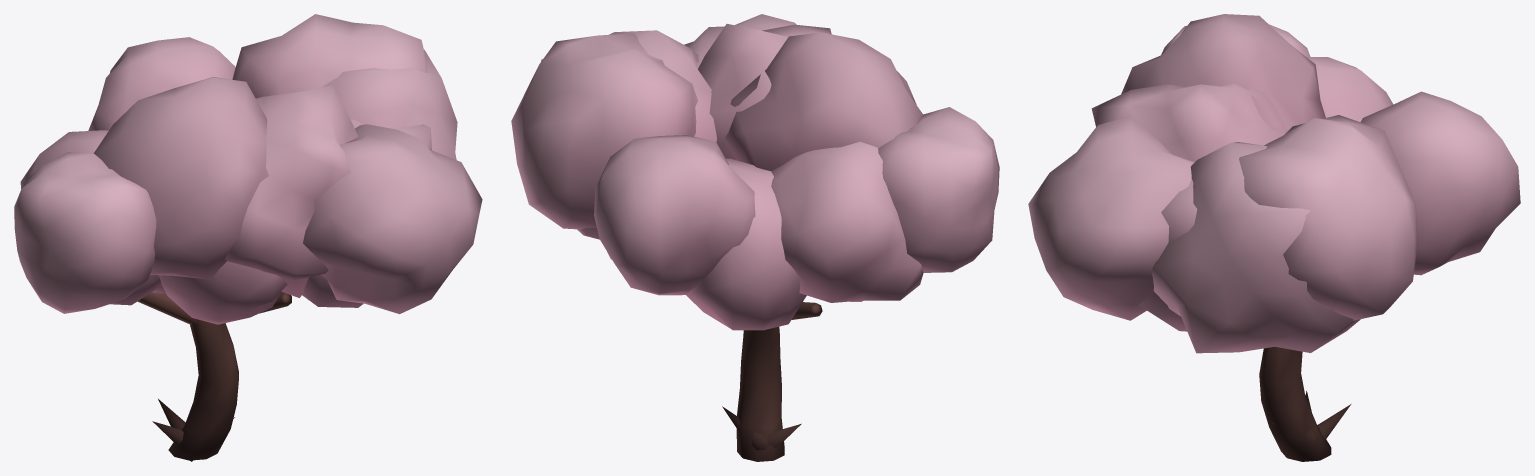
Rendered from cc_arvore_cerejeira.glb.
3 views of the same model, side by side, from view 1: azimuth 30°, elevation 25°; view 2: azimuth 150°, elevation 25°; view 3: azimuth 270°, elevation 25° (orthographic). The views are drawn at different scales.
Visible parts, largest first — view 1: cc_arvore_cerejeira_leaf_copa, cc_arvore_cerejeira_tree_casca; view 2: cc_arvore_cerejeira_leaf_copa, cc_arvore_cerejeira_tree_casca; view 3: cc_arvore_cerejeira_leaf_copa, cc_arvore_cerejeira_tree_casca.
Boxes of the visible parts, x1,y1,x2,y2 form: cc_arvore_cerejeira_leaf_copa: (14, 14, 482, 324); cc_arvore_cerejeira_tree_casca: (137, 292, 291, 461); cc_arvore_cerejeira_leaf_copa: (511, 14, 999, 330); cc_arvore_cerejeira_tree_casca: (722, 302, 822, 461); cc_arvore_cerejeira_leaf_copa: (1028, 14, 1520, 353); cc_arvore_cerejeira_tree_casca: (1259, 346, 1351, 461).
Bounding box in the file's own units: 6.91 × 6.15 × 6.44.
